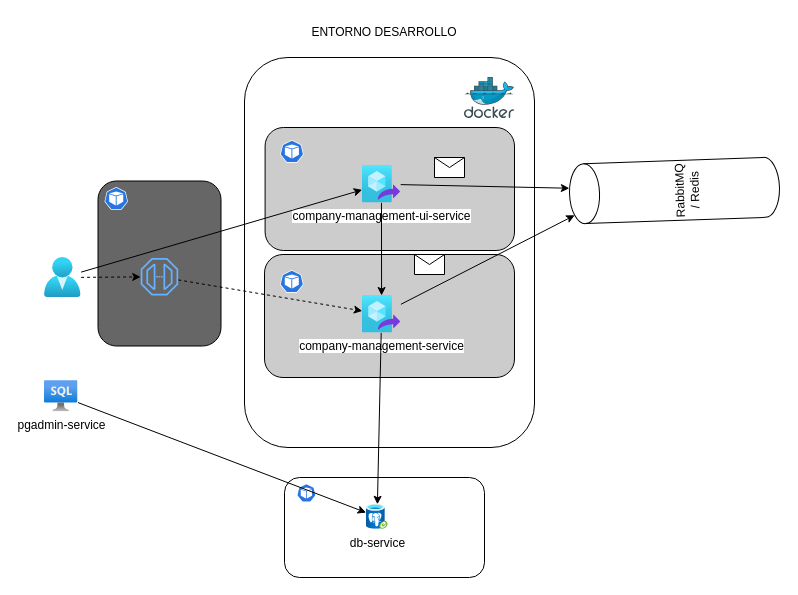
The diagram is 798 pixels wide and 595 high, and some of its shapes have lost their labels. Here are the shapes that lost their labels. From the top down, the centre of each, then its label:
At [62,277]: "Usuarios".
At [159,276]: "API Gateway".
